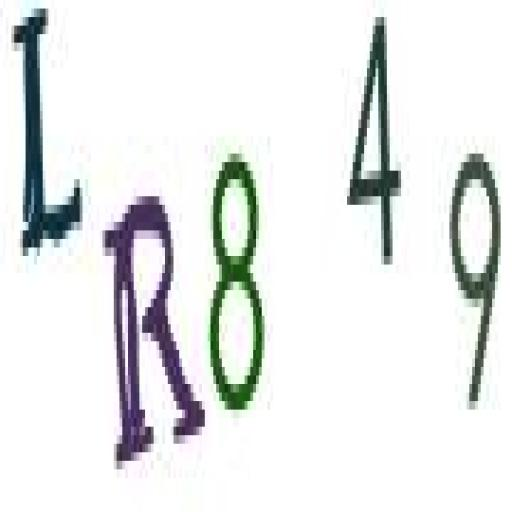4: (344, 12, 407, 273)
8: (201, 139, 269, 417)
9: (438, 129, 510, 425)
L: (12, 4, 90, 263)
R: (99, 178, 204, 484)
